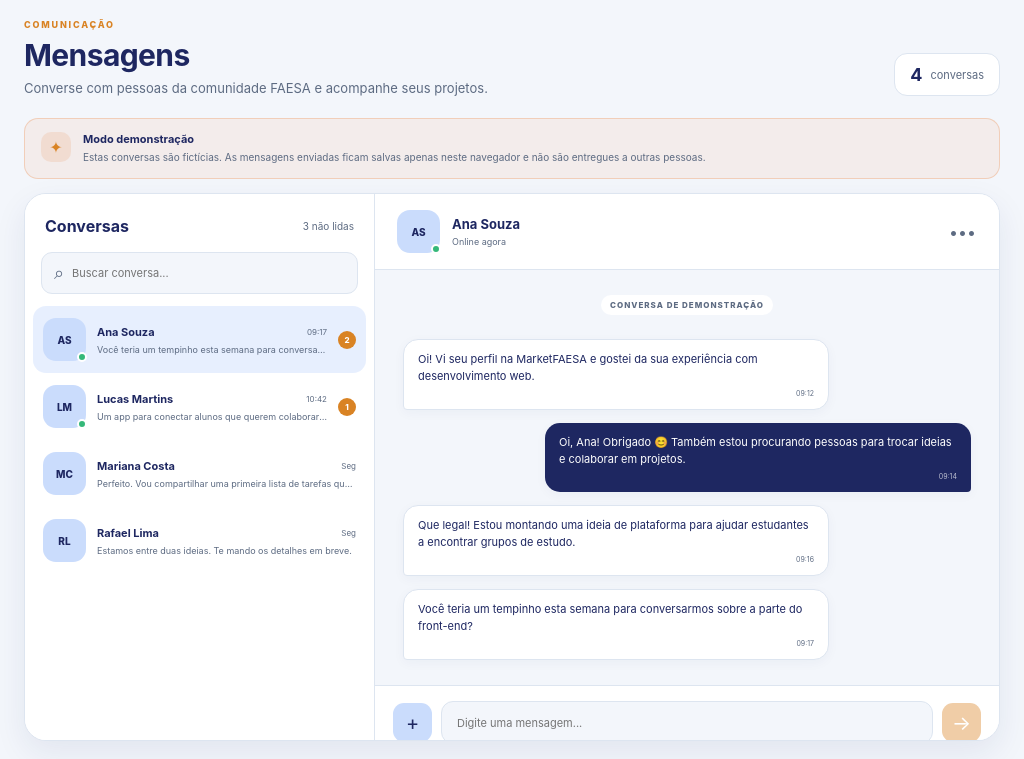
Scenario: Mensagens › mantém o texto e não exibe a mensagem se o armazenamento falhar
In the field with placeholder "Digite uma mensagem...": (687, 722) [441,701,933,744], type "Não pode sumir"
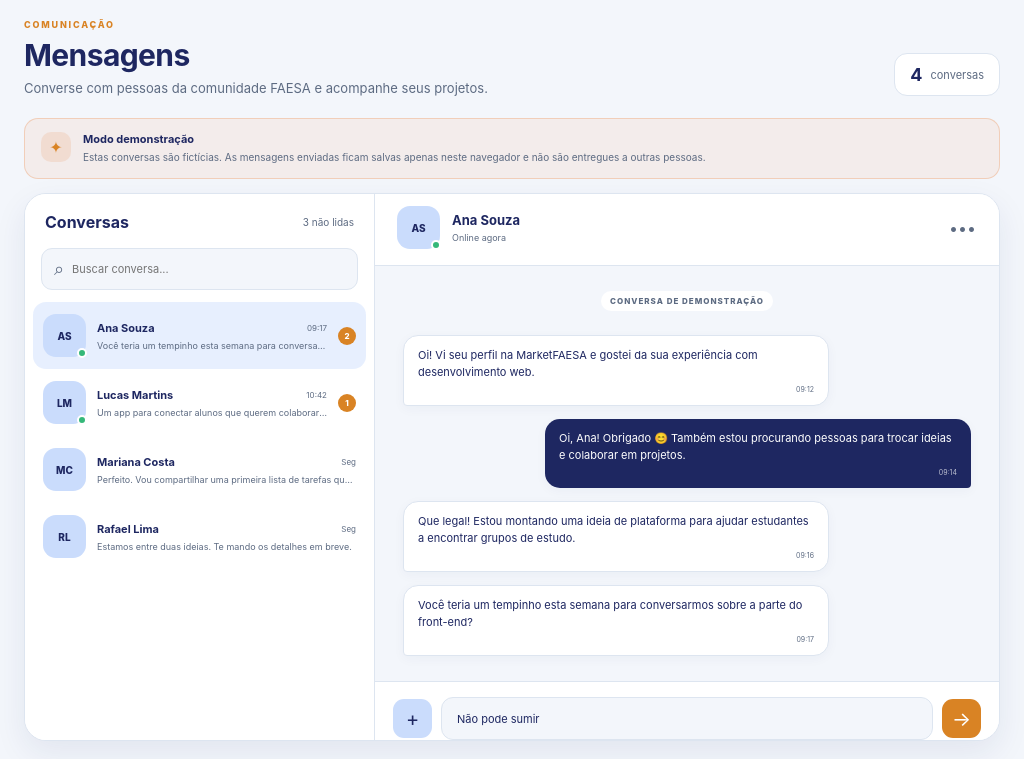
Click the button named "Enviar mensagem": (962, 718) [942,699,981,738]
(page scrolled)
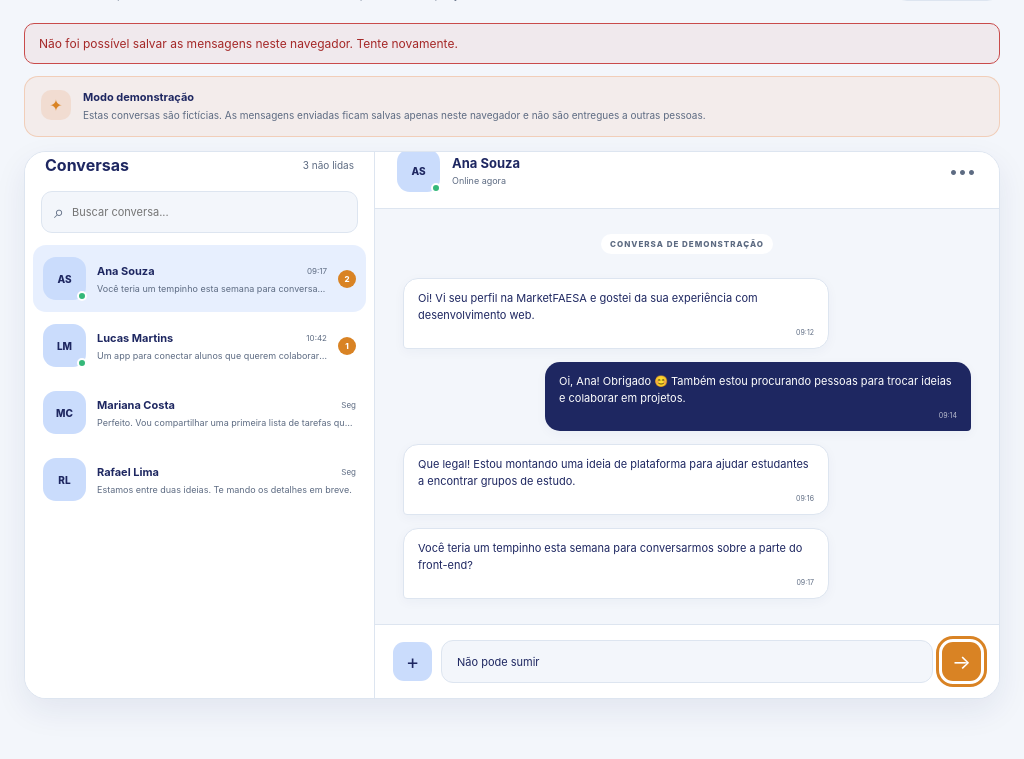
Check: the message shows "Não foi possível salvar as mensagens", box [39,36,458,51]
